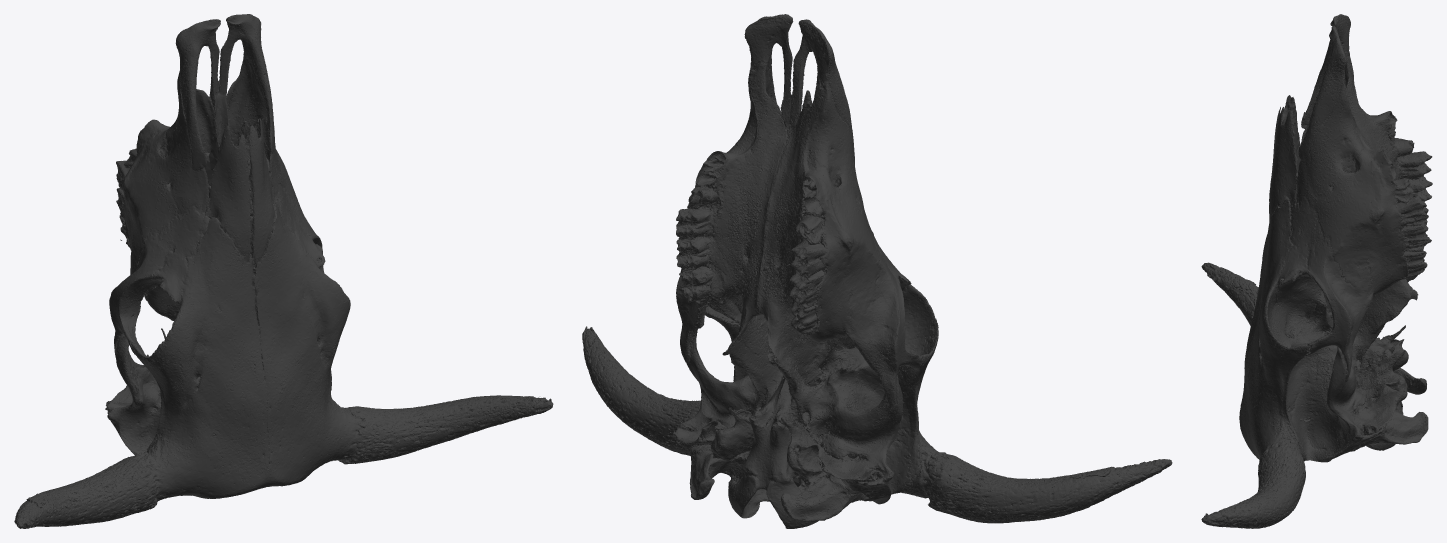
Rendered from cow_skull_main.glb.
The picture shows the model from 3 angles, left to right: view 1: azimuth 30°, elevation 25°; view 2: azimuth 150°, elevation 25°; view 3: azimuth 270°, elevation 25°; orthographic projection. The views are drawn at different scales.
Visible parts, largest first — view 1: cow_skull_main; view 2: cow_skull_main; view 3: cow_skull_main.
Boxes of the visible parts, left/top/right/bottom form: cow_skull_main: left=14, top=14, right=553, bottom=528; cow_skull_main: left=582, top=14, right=1172, bottom=528; cow_skull_main: left=1201, top=14, right=1432, bottom=528.
Bounding box in the file's own units: 0.6272 × 0.5043 × 0.2481.
Materials: 1 (1 with a texture image).
